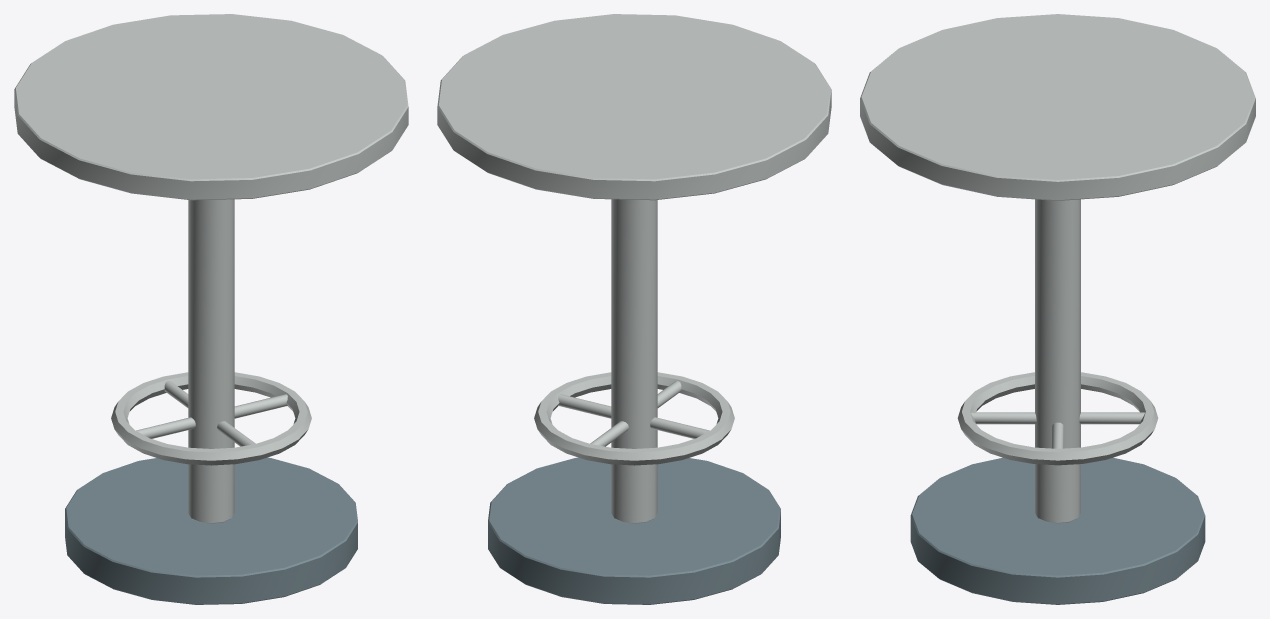
File: high-table.glb
3 views of the same model, side by side, from view 1: azimuth 30°, elevation 25°; view 2: azimuth 150°, elevation 25°; view 3: azimuth 270°, elevation 25° (orthographic).
Visible parts, largest first — view 1: high_tabletop, table_base, tall_pedestal, footrest, footrest_spoke, footrest_spoke.002; view 2: high_tabletop, table_base, tall_pedestal, footrest, footrest_spoke, footrest_spoke.002; view 3: high_tabletop, table_base, tall_pedestal, footrest, footrest_spoke.001, footrest_spoke.003.
Boxes of the visible parts, left/top/right/bottom form: high_tabletop: left=14, top=14, right=408, bottom=200; table_base: left=65, top=457, right=357, bottom=604; tall_pedestal: left=188, top=199, right=234, bottom=523; footrest: left=111, top=372, right=311, bottom=465; footrest_spoke: left=234, top=394, right=287, bottom=418; footrest_spoke.002: left=136, top=417, right=195, bottom=438; high_tabletop: left=437, top=14, right=831, bottom=200; table_base: left=488, top=457, right=780, bottom=604; tall_pedestal: left=611, top=199, right=657, bottom=523; footrest: left=534, top=372, right=734, bottom=465; footrest_spoke: left=558, top=394, right=611, bottom=418; footrest_spoke.002: left=650, top=417, right=709, bottom=438; high_tabletop: left=860, top=14, right=1255, bottom=200; table_base: left=910, top=457, right=1205, bottom=604; tall_pedestal: left=1035, top=199, right=1080, bottom=523; footrest: left=957, top=372, right=1158, bottom=465; footrest_spoke.001: left=971, top=412, right=1036, bottom=424; footrest_spoke.003: left=1079, top=412, right=1144, bottom=424.
Bounding box in the file's own units: 0.86 × 1.07 × 0.86.
